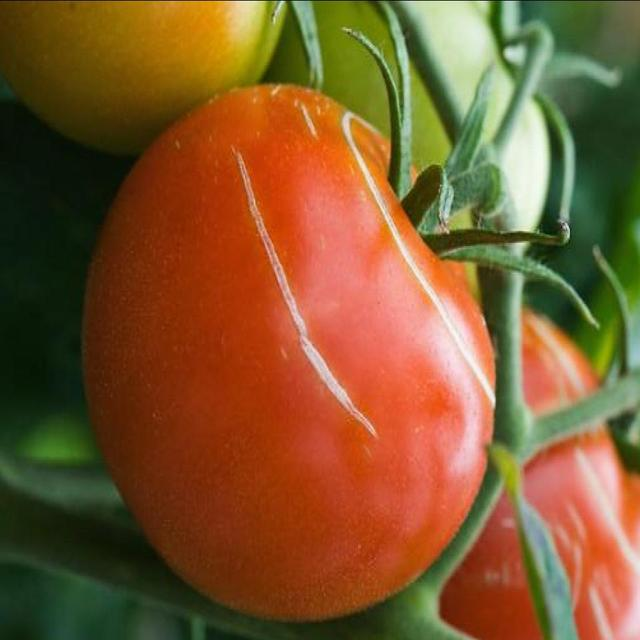Cracking Fruit: (28, 47, 405, 403)
